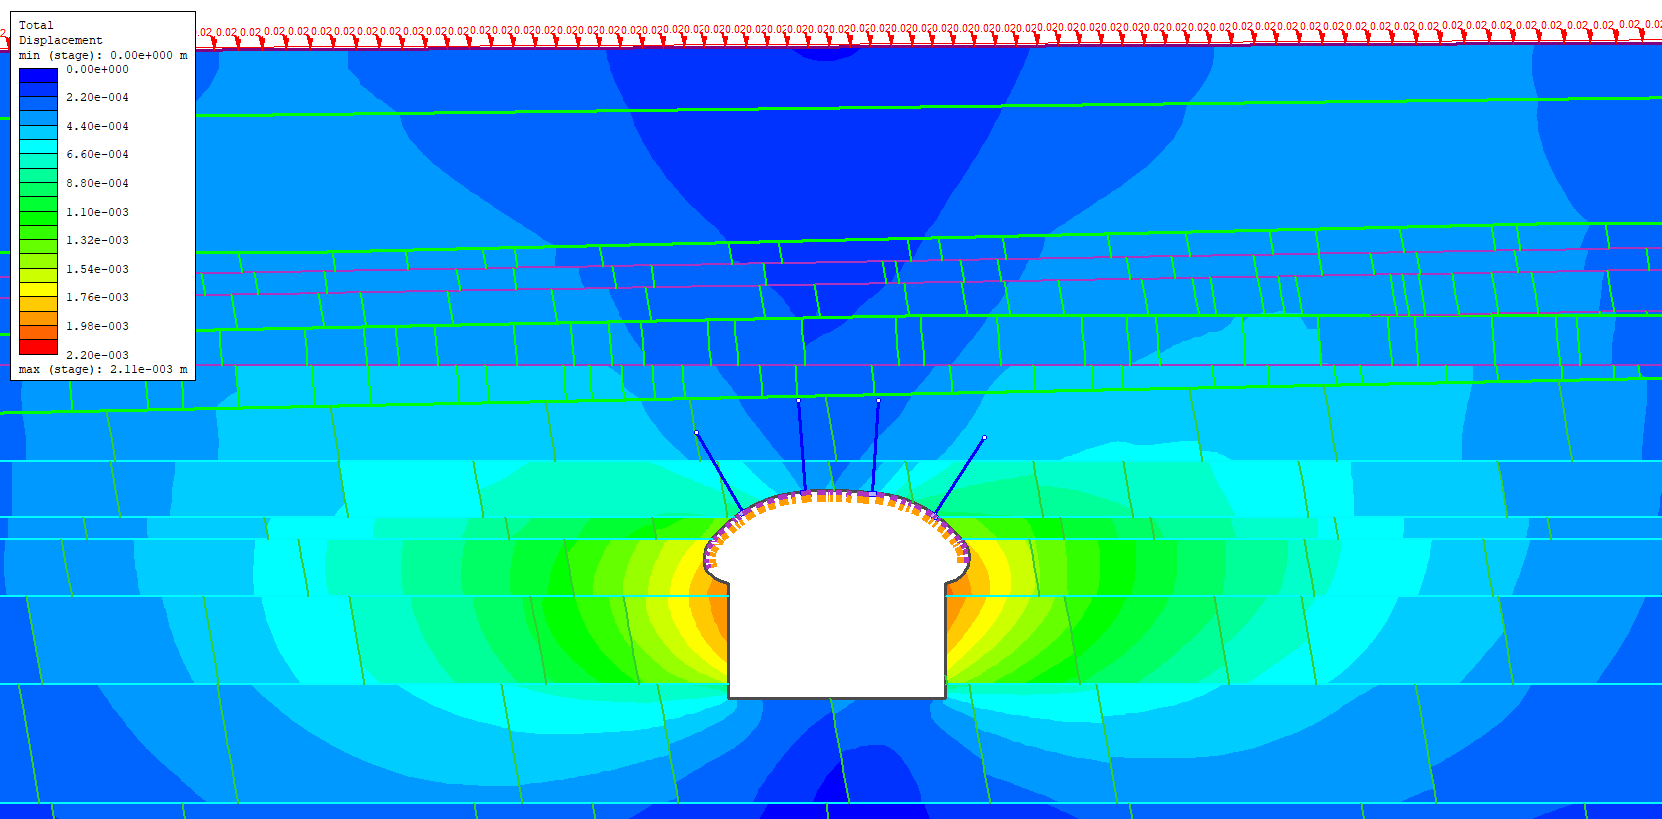crown: (806, 459, 873, 491)
label: (12, 10, 194, 378)
tunnel-opening: (702, 491, 973, 699)
